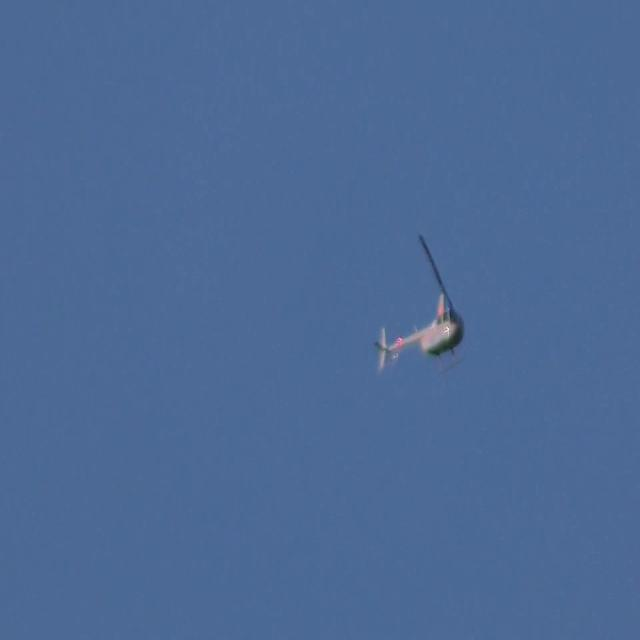CIV_HELO: (372, 286, 468, 380)
